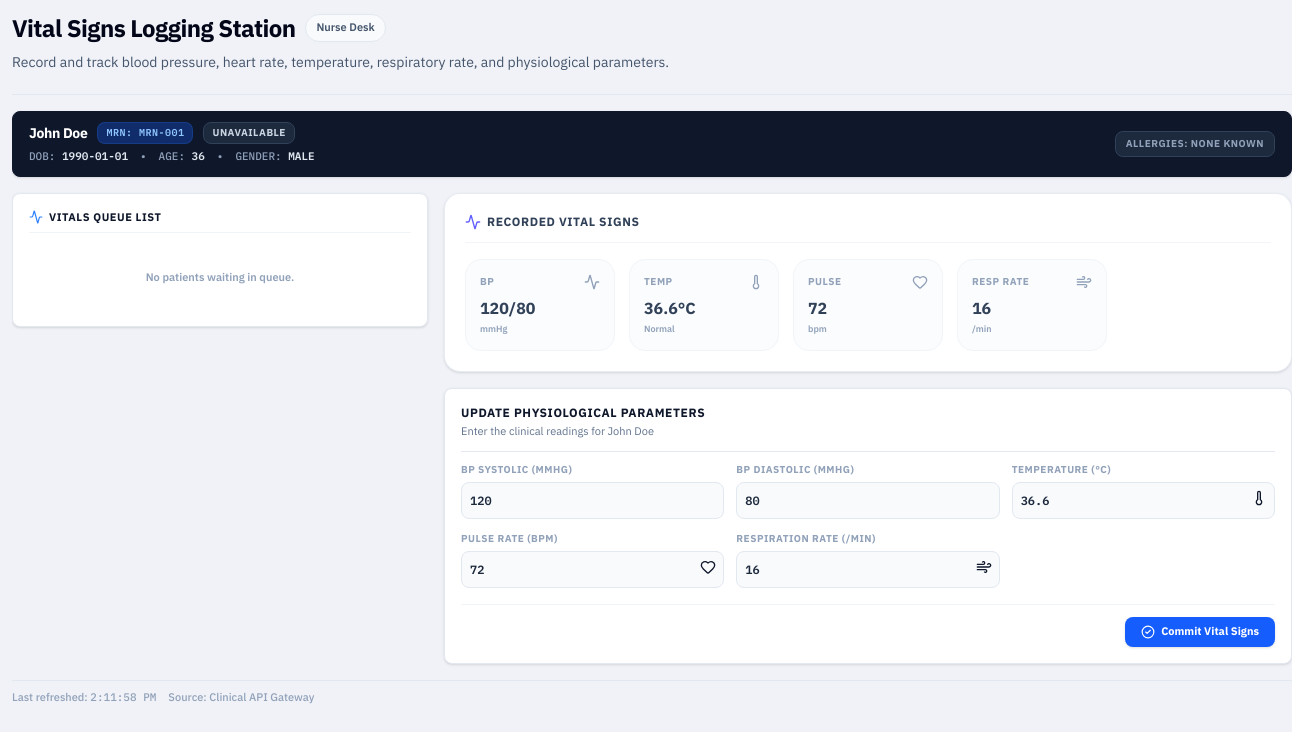
Test: NurseVitalsPage Save Mutation › displays validation error safely when backend returns 400
The width and height of the screenshot is (1292, 732).
Expected: the heading "Update Physiological Parameters" is shown, left=461, top=405, right=705, bottom=420
Click the button "Commit Vital Signs": (1200, 632) left=1125, top=617, right=1275, bottom=647
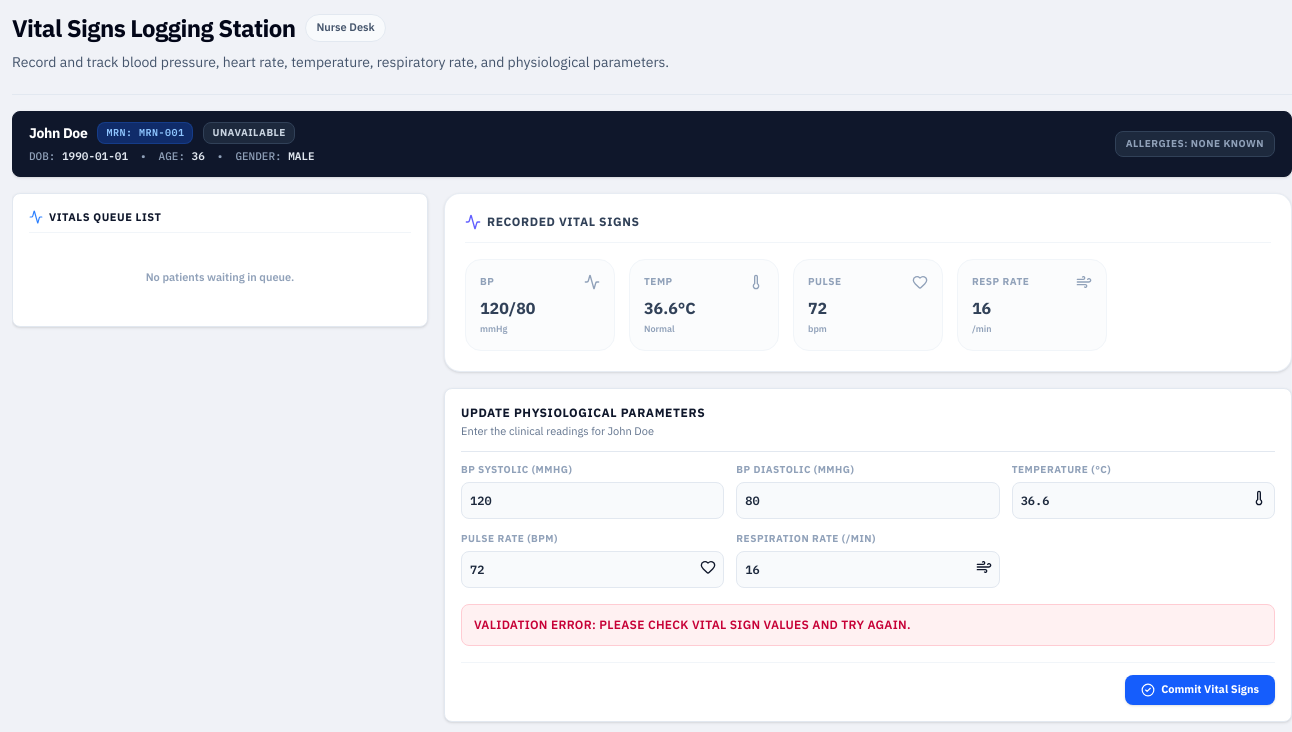
Now the text "Validation error" is shown, box left=474, top=617, right=911, bottom=632
